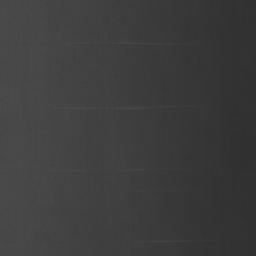Waist folding: (55, 105, 196, 111), (57, 169, 145, 177), (64, 42, 197, 47), (138, 240, 207, 245), (137, 187, 178, 193)
